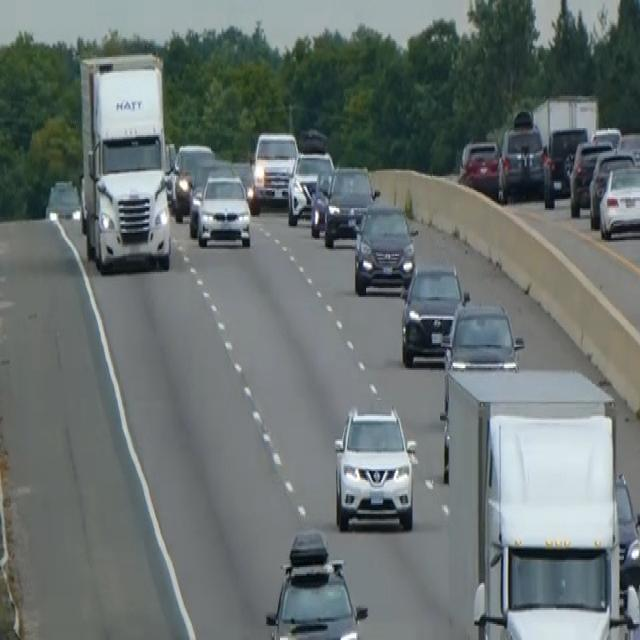car: (440, 298, 524, 412), (399, 260, 467, 366), (352, 199, 417, 295), (323, 162, 377, 247), (192, 171, 252, 247), (498, 114, 546, 199), (542, 125, 588, 206), (286, 147, 333, 225), (251, 128, 298, 204), (568, 137, 612, 217), (188, 156, 234, 230), (171, 140, 214, 218), (598, 160, 639, 240), (614, 469, 639, 592), (458, 137, 503, 197), (309, 166, 335, 237), (44, 178, 81, 220), (616, 130, 639, 169)
jeep: (263, 526, 369, 638), (331, 400, 418, 533)
lorry: (77, 50, 173, 274)
